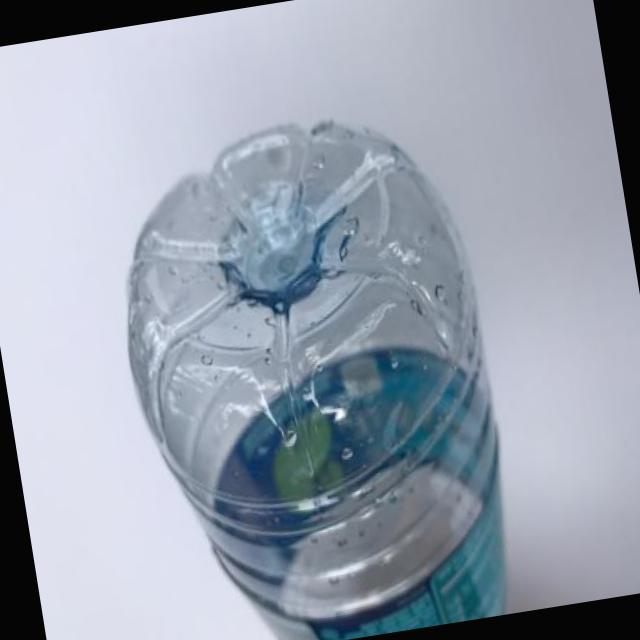Recycle: (96, 74, 529, 640)
